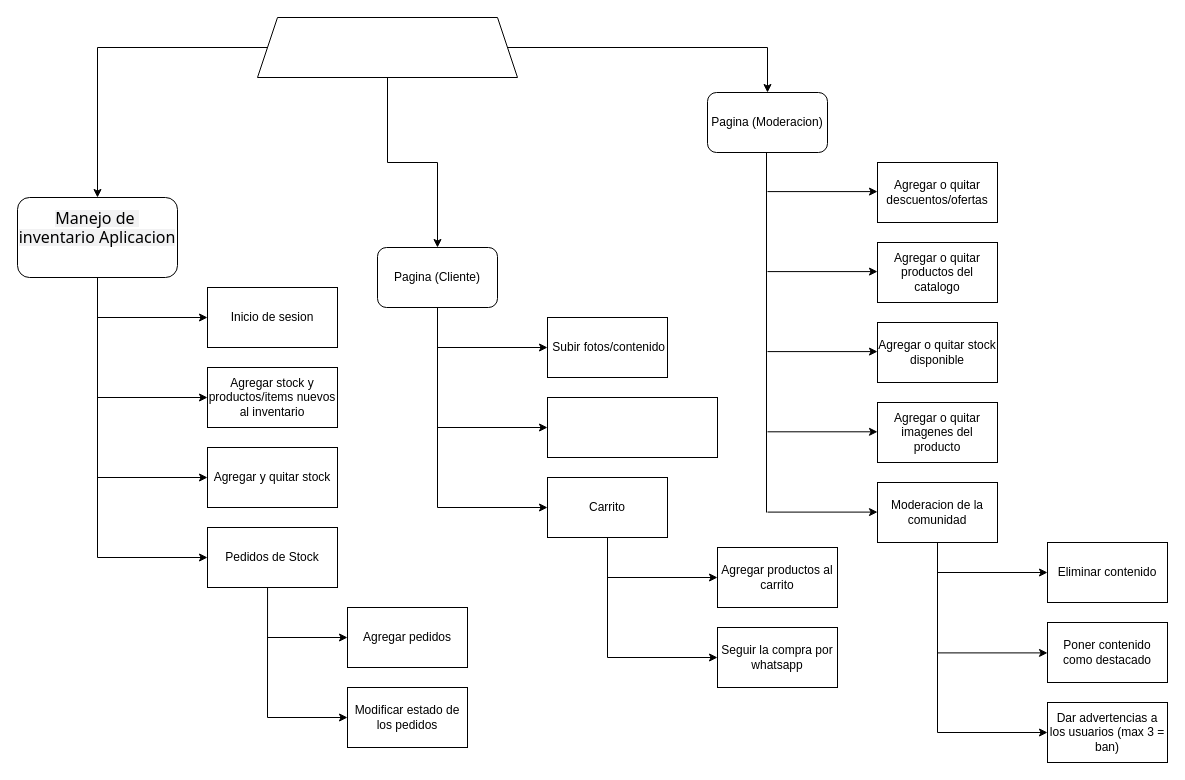
The diagram is 1185 pixels wide and 780 high, and some of its shapes have lost their labels. The box of each missing label's shape, as (x1, y1, x2, y2) in pixels:
Hosco: (256, 16, 518, 78)
Simulacion de remera con una foto: (546, 396, 718, 458)
